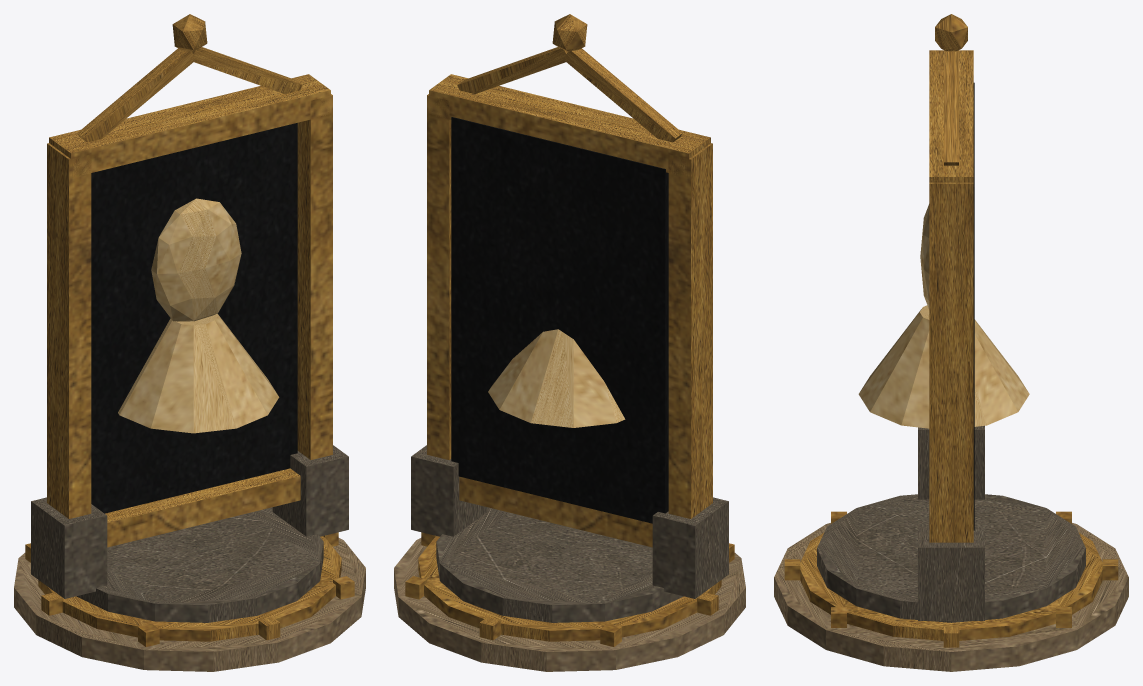
File: preserve-last-portrait.glb
3 renders of one model, left to right at view 1: azimuth 30°, elevation 25°; view 2: azimuth 150°, elevation 25°; view 3: azimuth 270°, elevation 25°, orthographic.
Visible parts, largest first — view 1: preserve-last-portrait; view 2: preserve-last-portrait; view 3: preserve-last-portrait.
Boxes of the visible parts, x1,y1,x2,y2 form: preserve-last-portrait: [14, 14, 365, 671]; preserve-last-portrait: [394, 14, 745, 671]; preserve-last-portrait: [774, 14, 1128, 671].
Size of the model in its own units: 2.9 by 5.26 by 2.9.
1 material, 1 textured.
